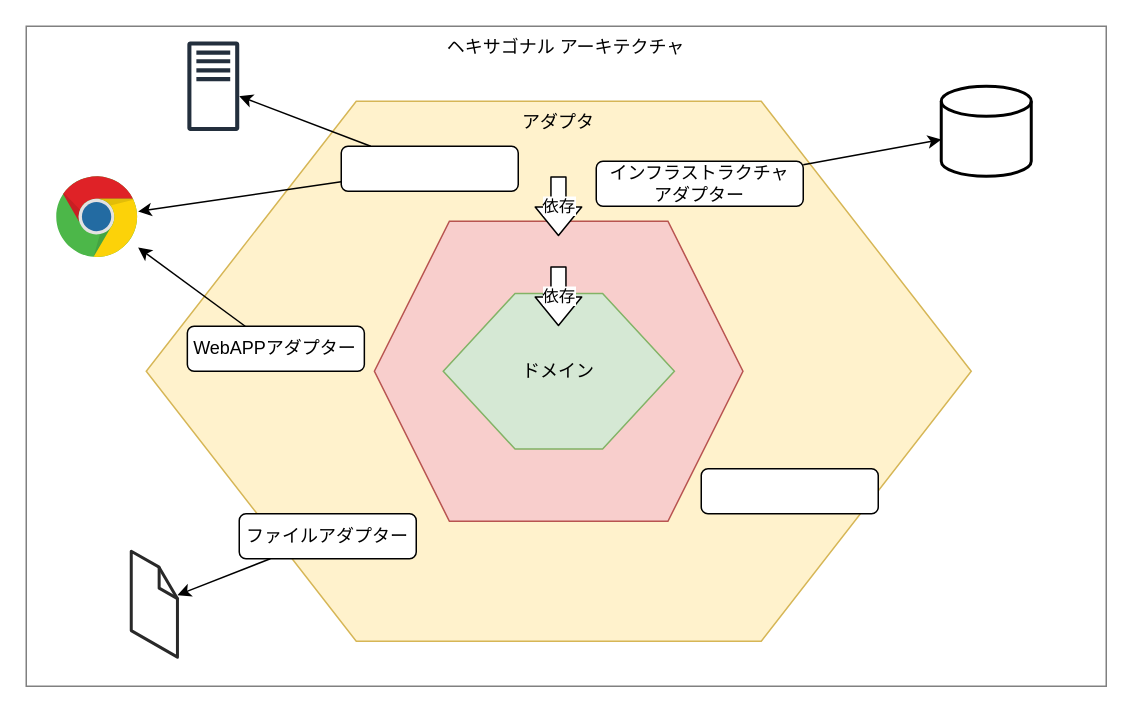
Some shapes in this 1133 by 713 pixel diagram are drawn without their labels. Each missing label, with the box of its shape:
***アダプター: (700, 467, 878, 514)
WebAPIアダプター: (340, 145, 518, 191)
アプリケーション: (373, 220, 743, 521)
